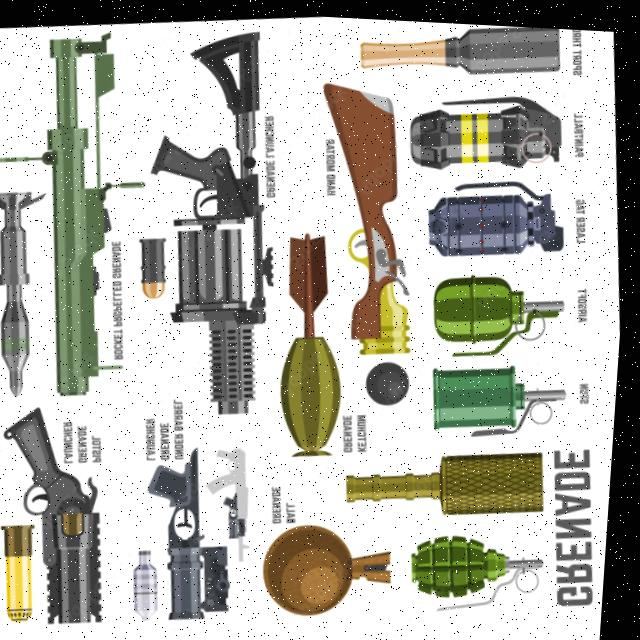firearm: (204, 441, 263, 562)
grenade: (266, 219, 362, 458), (345, 435, 557, 525), (260, 508, 407, 620), (404, 79, 569, 175), (426, 258, 576, 360), (410, 513, 558, 615), (0, 184, 69, 401), (422, 165, 573, 263), (432, 346, 584, 442), (354, 15, 565, 84), (0, 520, 55, 623), (134, 544, 173, 620), (137, 232, 173, 299)
pistol: (0, 397, 123, 630)
rocket: (124, 18, 304, 421), (0, 22, 174, 404), (139, 437, 248, 623), (225, 486, 250, 536)
